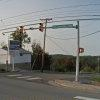Traffic light: (12, 21, 50, 39)
